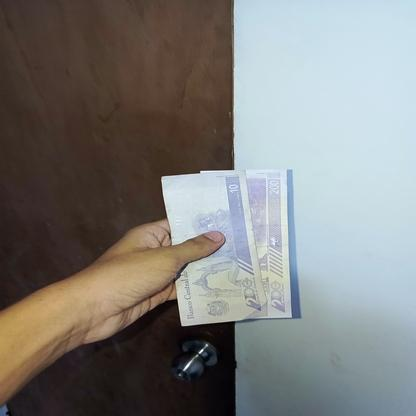ten-back-vef: (160, 170, 266, 326)
two_hundred-back-vef: (240, 169, 291, 320)
